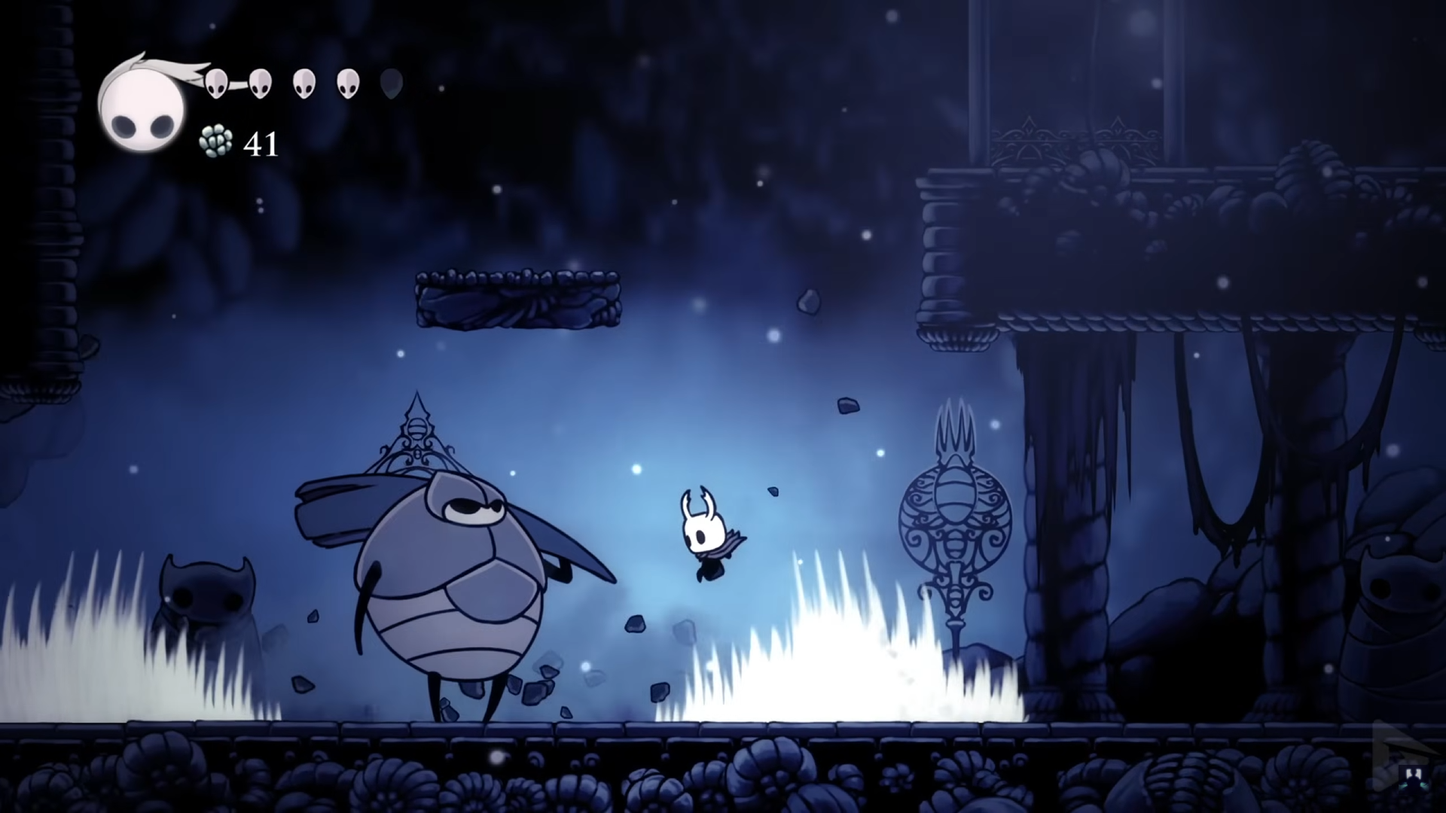HK: (679, 484, 737, 587)
